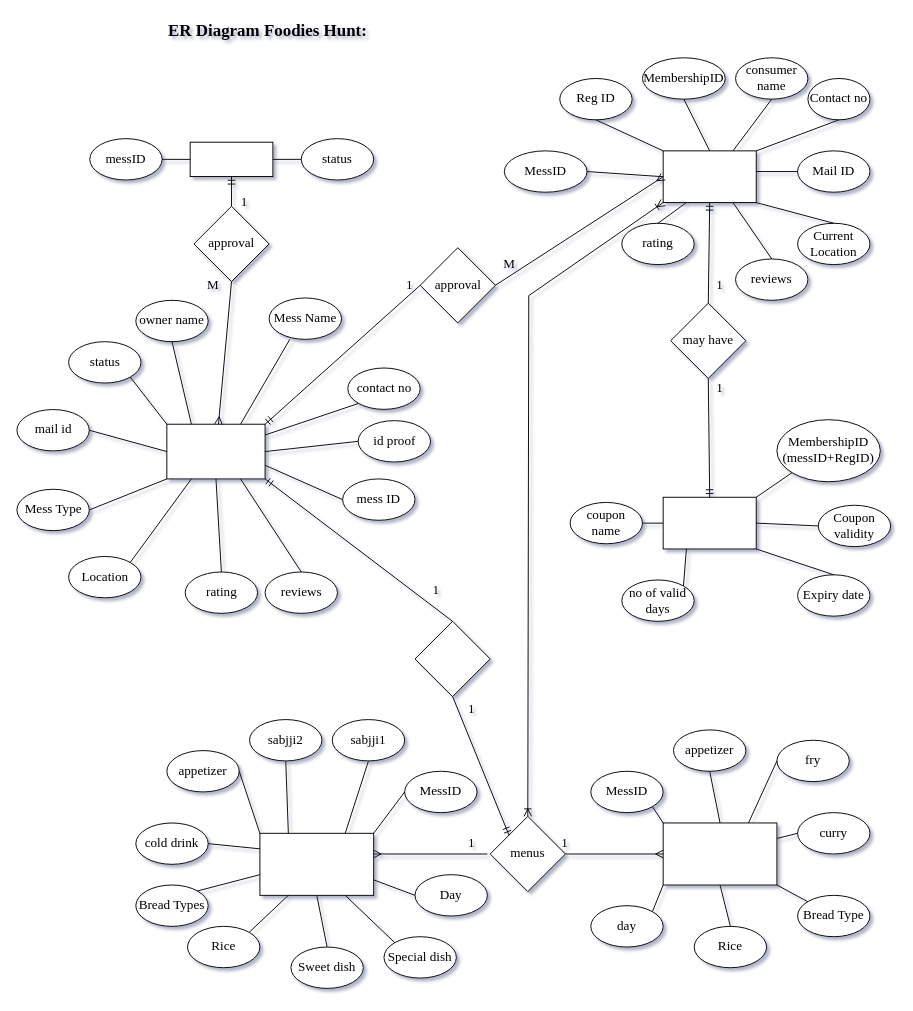
This 913x1011 diagram has some shape labels left out. Each missing label, with the centre of its shape:
"Admin" belongs at (231,159).
"membership status" belongs at (709,522).
"Messs" belongs at (215,451).
"Non Veg Menu" belongs at (719,853).
"provides" belongs at (452,658).
"Reg consumer" belongs at (709,176).
"Veg Menu" belongs at (316,863).
